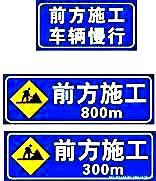sign: (5, 75, 152, 122), (6, 132, 153, 179), (38, 2, 134, 49)
